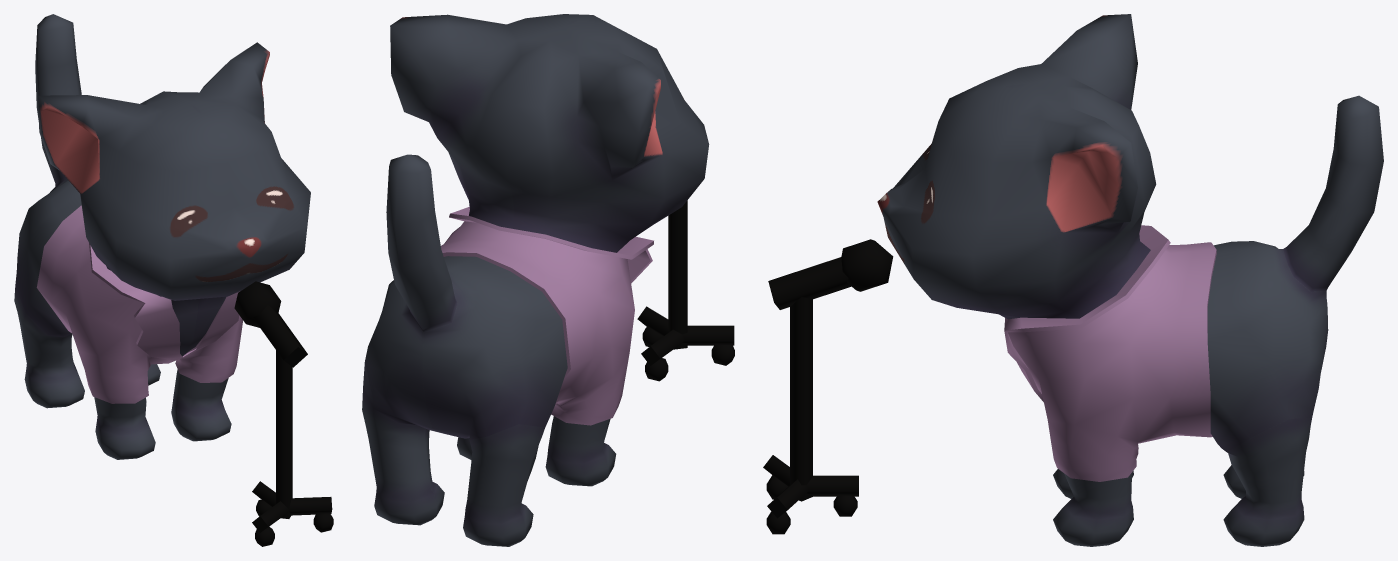
Rendered from Singer Cat03.fbx.
3 renders of one model, left to right at view 1: azimuth 30°, elevation 25°; view 2: azimuth 150°, elevation 25°; view 3: azimuth 270°, elevation 25°, orthographic. The views are drawn at different scales.
Visible parts, largest first — view 1: Cat_Base002, TS_Cat_Shirt, Singer_Cat_Mic; view 2: Cat_Base002, TS_Cat_Shirt, Singer_Cat_Mic; view 3: Cat_Base002, TS_Cat_Shirt, Singer_Cat_Mic.
Boxes of the visible parts, <box> form: Cat_Base002: <box>14,14,310,459</box>; TS_Cat_Shirt: <box>36,205,242,403</box>; Singer_Cat_Mic: <box>234,281,333,546</box>; Cat_Base002: <box>362,14,709,546</box>; TS_Cat_Shirt: <box>441,206,653,425</box>; Singer_Cat_Mic: <box>637,200,734,381</box>; Cat_Base002: <box>877,14,1383,546</box>; TS_Cat_Shirt: <box>1004,225,1216,481</box>; Singer_Cat_Mic: <box>763,239,893,534</box>.
Bounding box in the file's own units: 1.75 × 3.47 × 2.68.
Materials: 4 (1 with a texture image).
